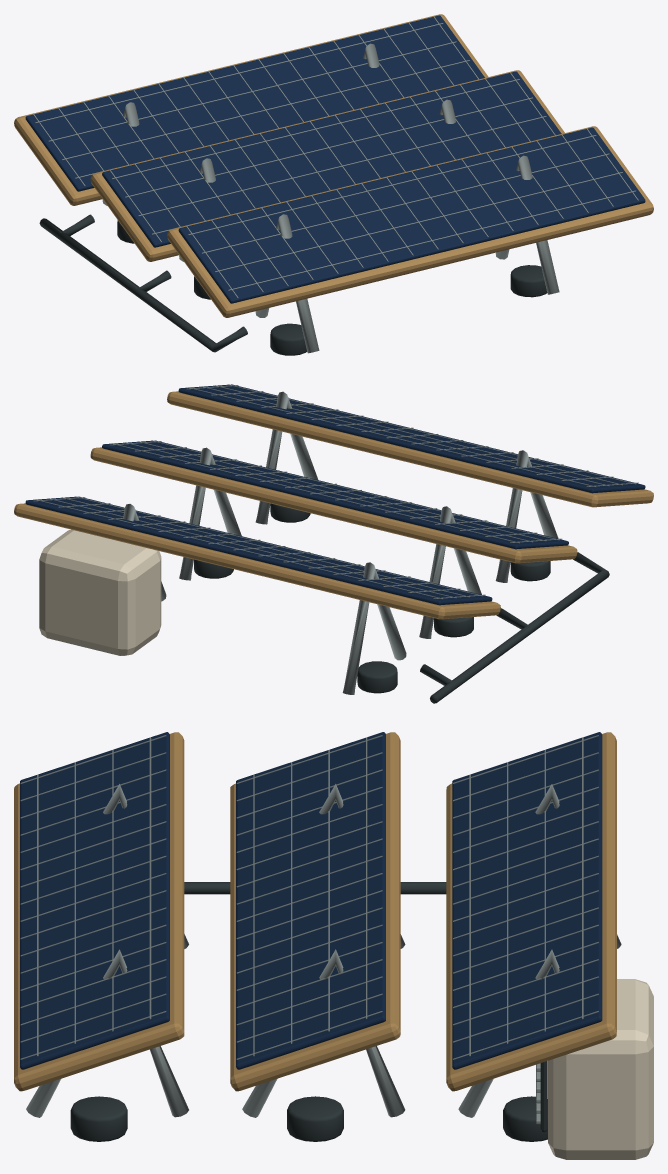
File: solar-s02.glb
The picture shows the model from 3 angles, top to bottom: view 1: azimuth 30°, elevation 25°; view 2: azimuth 150°, elevation 25°; view 3: azimuth 270°, elevation 25°; orthographic projection. The views are drawn at different scales.
Visible parts, largest first — view 1: H01 batch 03 / Ares S02 / photovoltaic blue, H01 batch 01 / Ares S02 / titanium struts, H01 batch 02 / Ares S02 / brushed bronze, H01 batch 00 / Ares S02 / charcoal seals; view 2: H01 batch 03 / Ares S02 / photovoltaic blue, H01 batch 02 / Ares S02 / brushed bronze, H01 batch 01 / Ares S02 / titanium struts, H01 batch 04 / Ares S02 / ceramic pressure shell, H01 batch 00 / Ares S02 / charcoal seals; view 3: H01 batch 03 / Ares S02 / photovoltaic blue, H01 batch 02 / Ares S02 / brushed bronze, H01 batch 01 / Ares S02 / titanium struts, H01 batch 04 / Ares S02 / ceramic pressure shell, H01 batch 00 / Ares S02 / charcoal seals.
Boxes of the visible parts, bbox=[...] form: H01 batch 03 / Ares S02 / photovoltaic blue: bbox=[25, 15, 645, 303]; H01 batch 01 / Ares S02 / titanium struts: bbox=[33, 16, 638, 353]; H01 batch 02 / Ares S02 / brushed bronze: bbox=[14, 14, 653, 317]; H01 batch 00 / Ares S02 / charcoal seals: bbox=[39, 214, 547, 355]; H01 batch 03 / Ares S02 / photovoltaic blue: bbox=[25, 384, 645, 605]; H01 batch 02 / Ares S02 / brushed bronze: bbox=[14, 391, 653, 619]; H01 batch 01 / Ares S02 / titanium struts: bbox=[33, 384, 638, 694]; H01 batch 04 / Ares S02 / ceramic pressure shell: bbox=[39, 529, 161, 655]; H01 batch 00 / Ares S02 / charcoal seals: bbox=[194, 503, 609, 703]; H01 batch 03 / Ares S02 / photovoltaic blue: bbox=[20, 732, 602, 1069]; H01 batch 02 / Ares S02 / brushed bronze: bbox=[14, 732, 616, 1091]; H01 batch 01 / Ares S02 / titanium struts: bbox=[20, 735, 621, 1124]; H01 batch 04 / Ares S02 / ceramic pressure shell: bbox=[548, 979, 653, 1159]; H01 batch 00 / Ares S02 / charcoal seals: bbox=[70, 882, 547, 1141].
Size of the model in its own units: 1.72 by 0.492 by 1.57.
